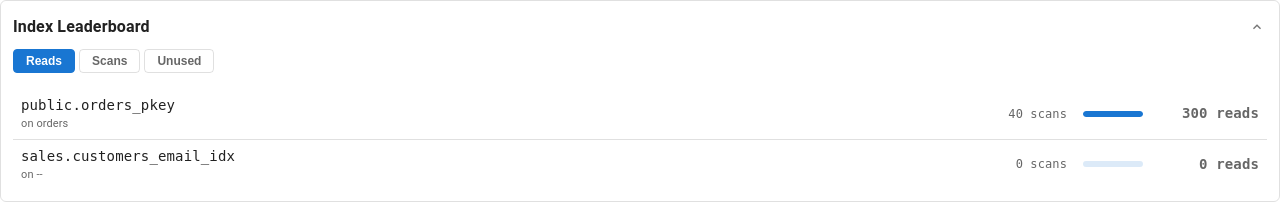
Test case: IndexLeaderboardSection › switches to the Scans tab
This screenshot has width=1280, height=219.
Expected: the text "300 reads" is shown, [1182,105,1259,121]
Click the tab with aria-label "Sort indexes by Scans": (110, 61) [79,49,140,73]
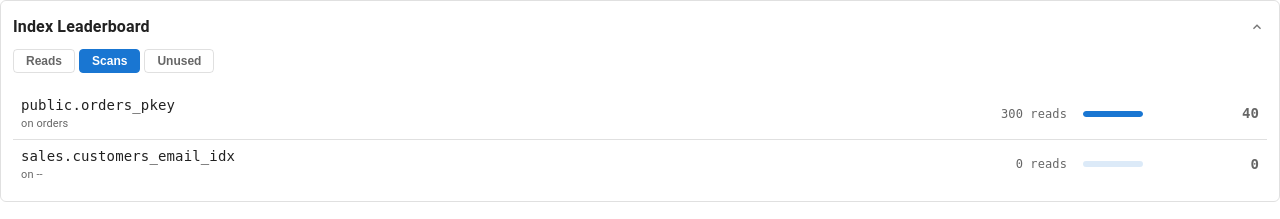
Expected: the text "40" is shown, [1242,105,1259,121]
Expected: the text "300 reads" is shown, [1001,107,1067,121]
